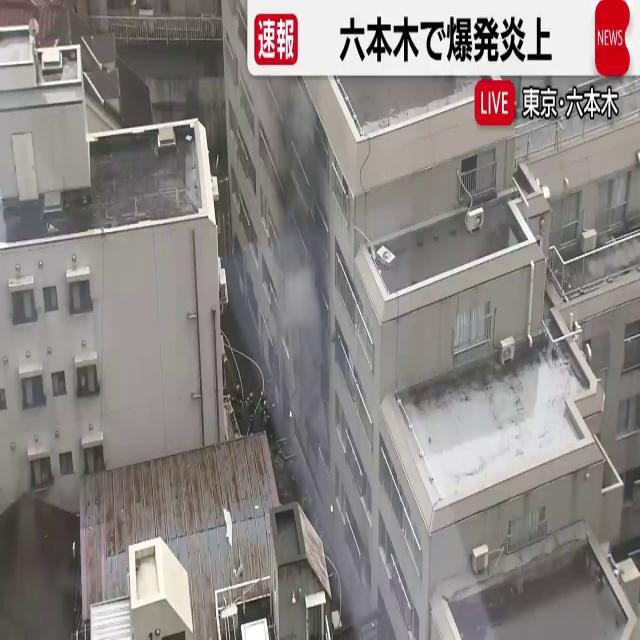Smoke: (264, 72, 336, 348)
